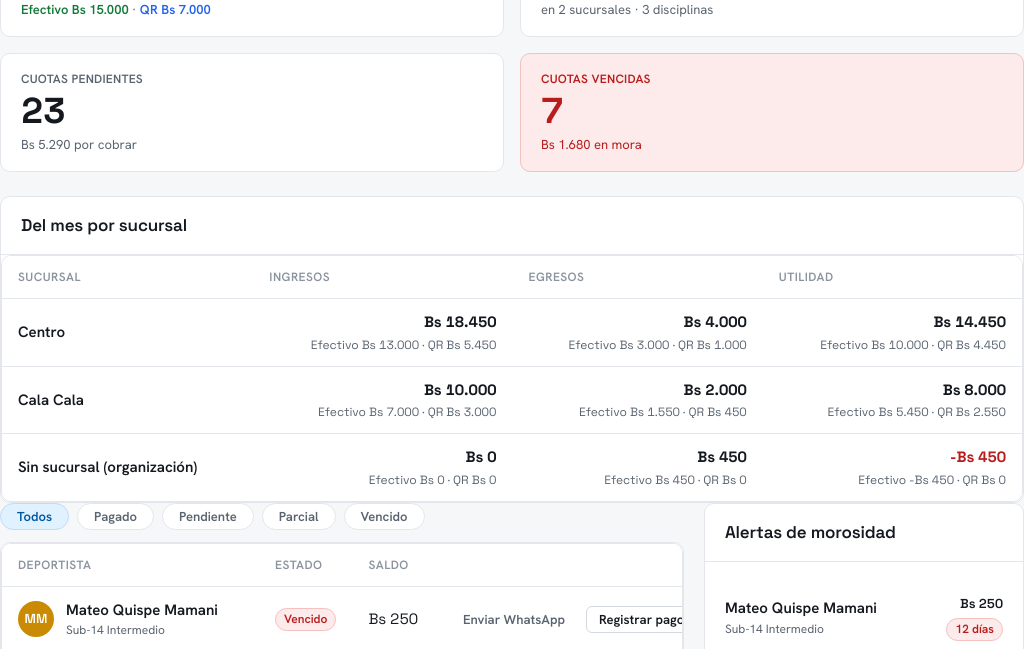
it: PanelCobranza › refleja motivo "ya_enviado" como info
(page scrolled)
Step 1. Click the button "Enviar WhatsApp" in the row of "MM" → coordinates (514, 619), box x1=450 y1=606 x2=578 y2=632
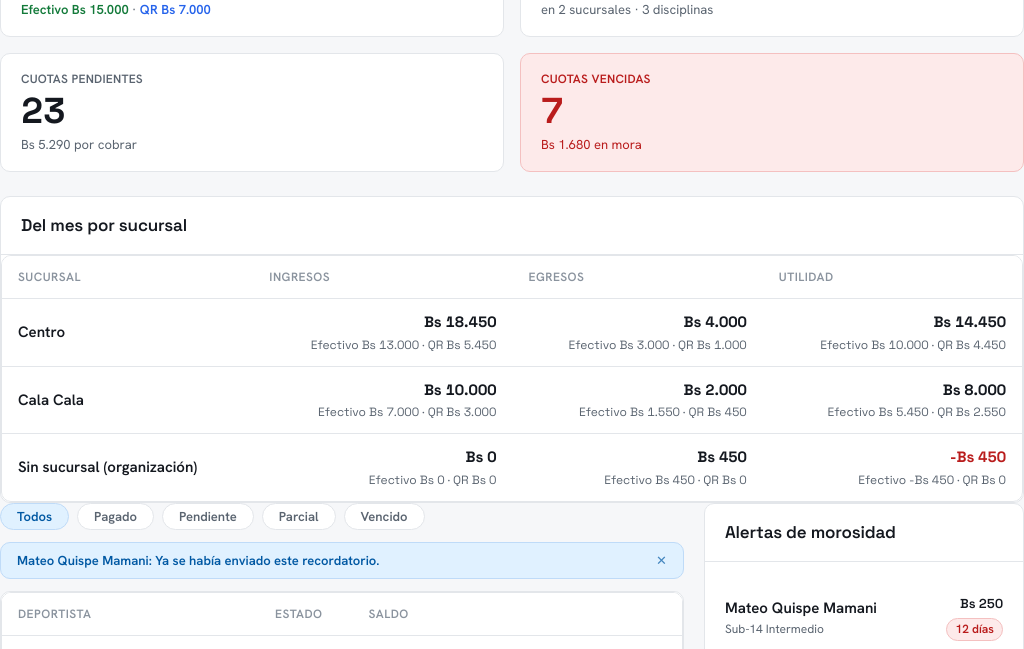
Result: the text "Mateo Quispe Mamani: Ya se había enviado este recordatorio." is shown at x1=17 y1=551 x2=380 y2=570
